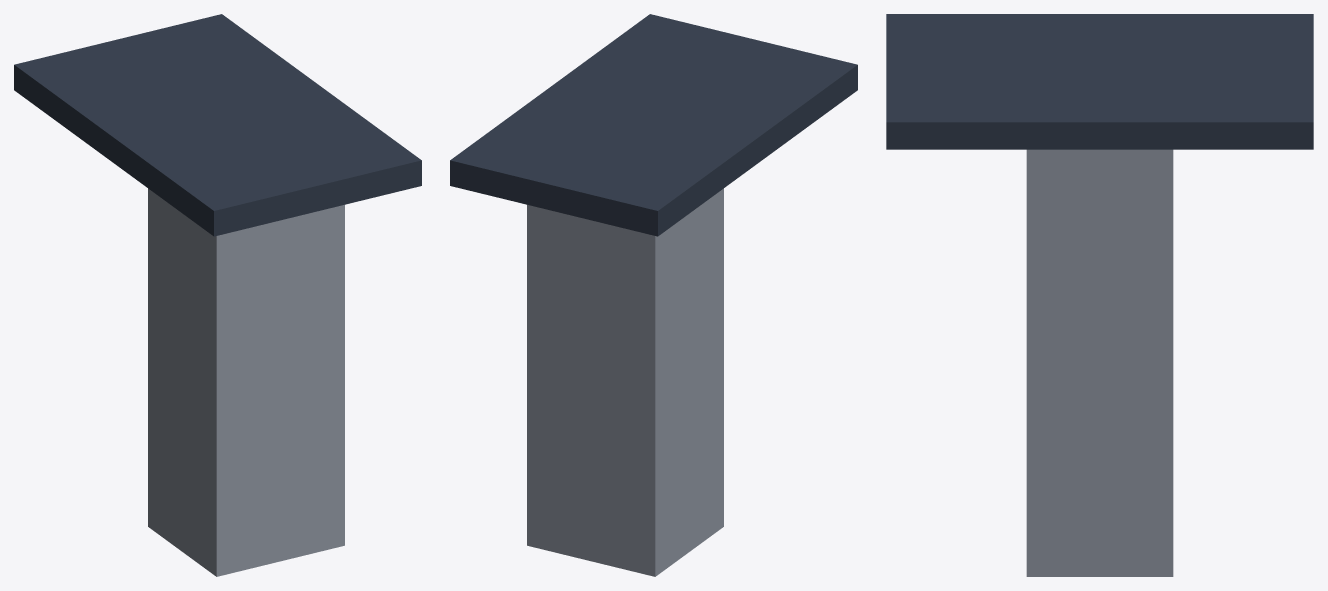
Rendered from twinTowers.glb.
3 views of the same model, side by side, from view 1: azimuth 30°, elevation 25°; view 2: azimuth 150°, elevation 25°; view 3: azimuth 270°, elevation 25° (orthographic). The views are drawn at different scales.
Parts seen in each view (by area): view 1: twinTowers; view 2: twinTowers; view 3: twinTowers.
Part boxes in pixels (bbox=[...]): twinTowers: bbox=[14, 14, 421, 576]; twinTowers: bbox=[450, 14, 857, 576]; twinTowers: bbox=[886, 14, 1313, 576].
Bounding box in the file's own units: 4.59 × 9.09 × 7.65.
